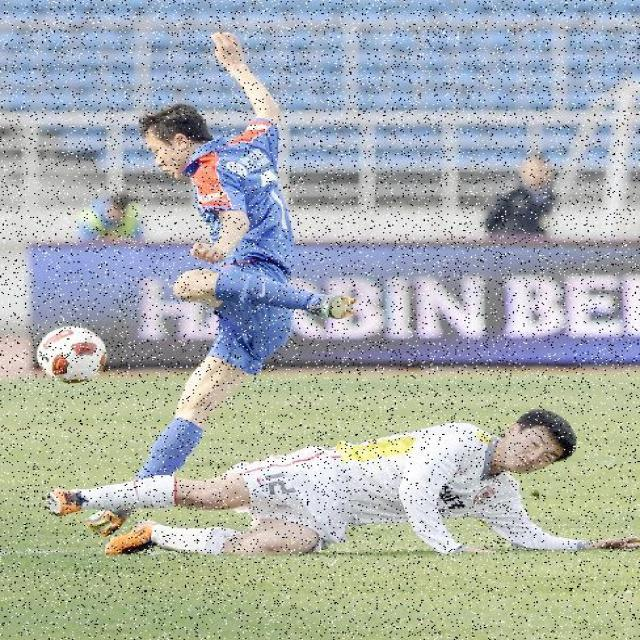fall: (72, 414, 577, 556)
